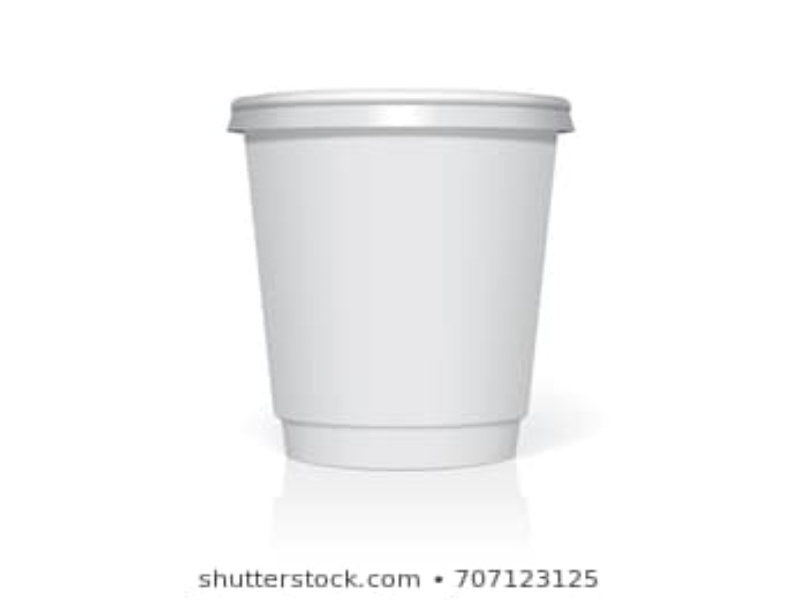plastic-cup: (222, 85, 588, 473)
